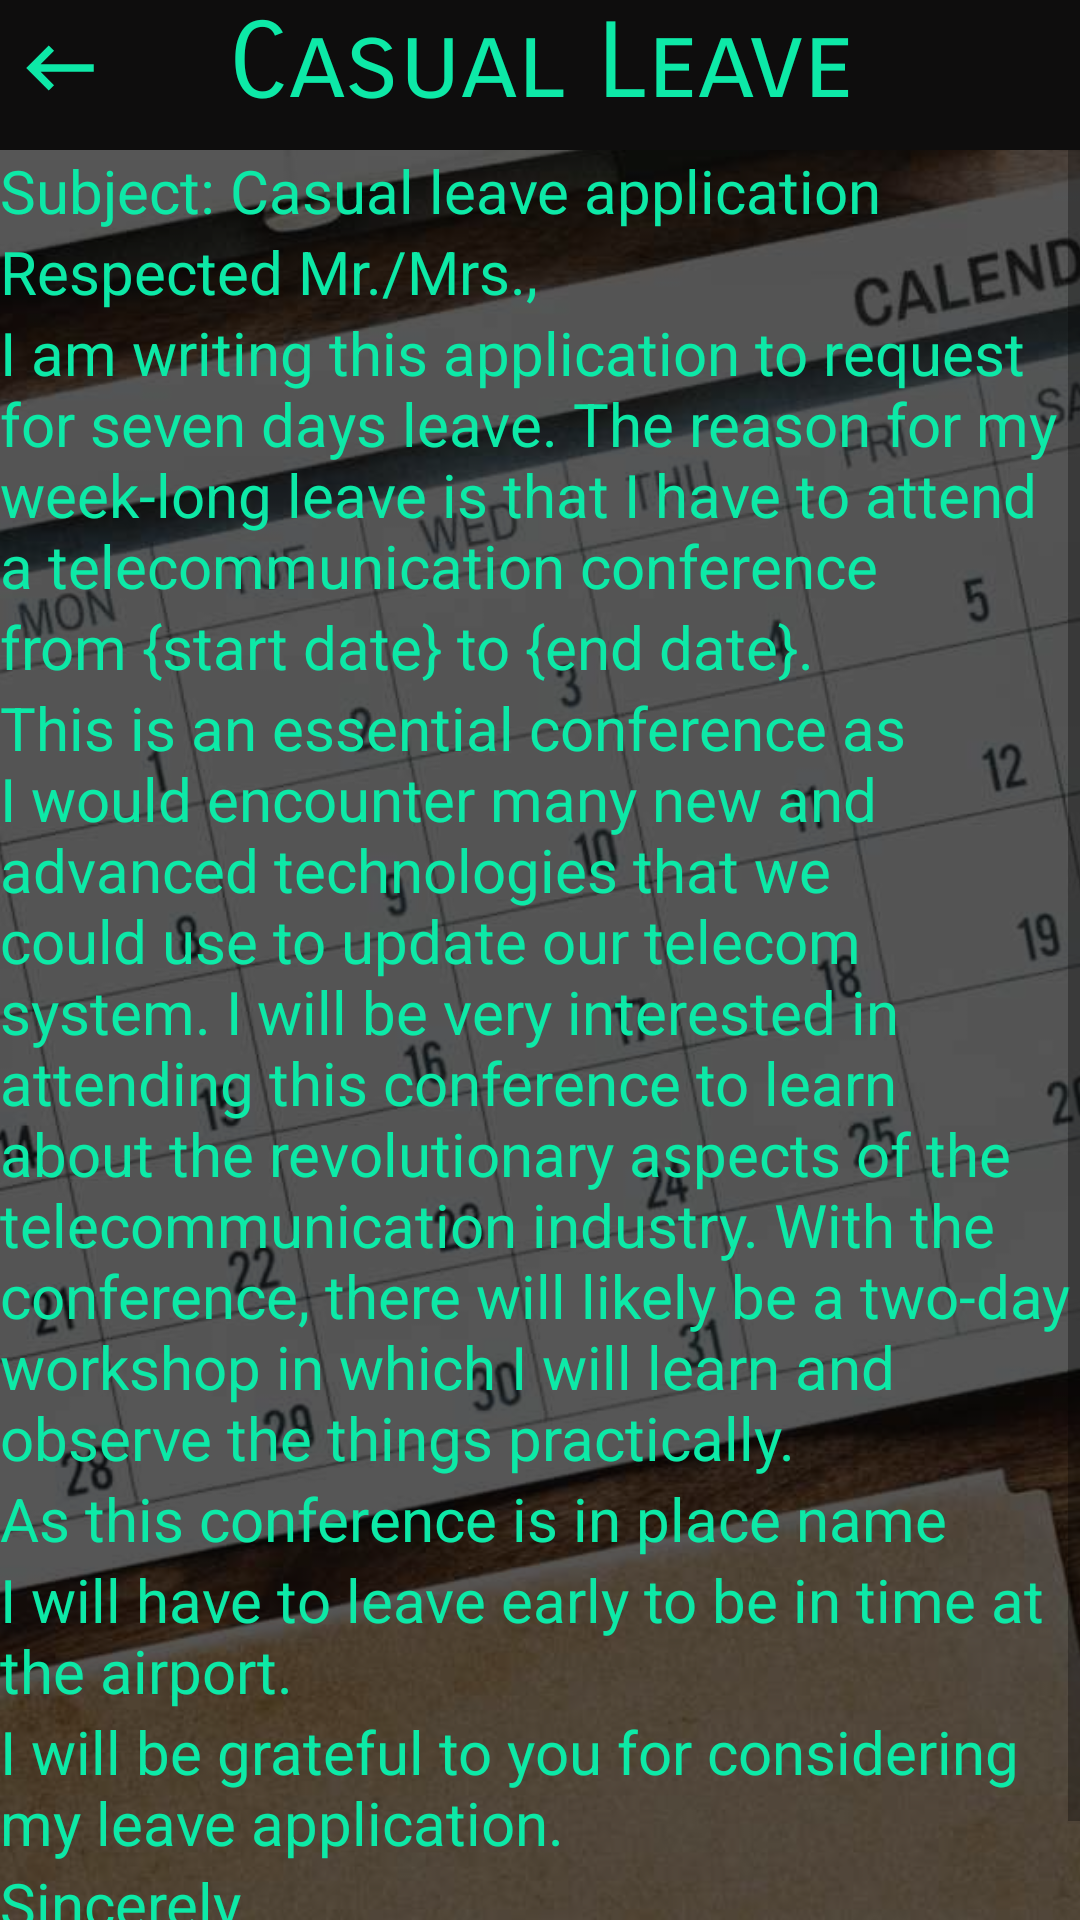

Point at icon controls on the screen. Image size 1080w x 1920h, points as (x,y).
back: (60,68)
